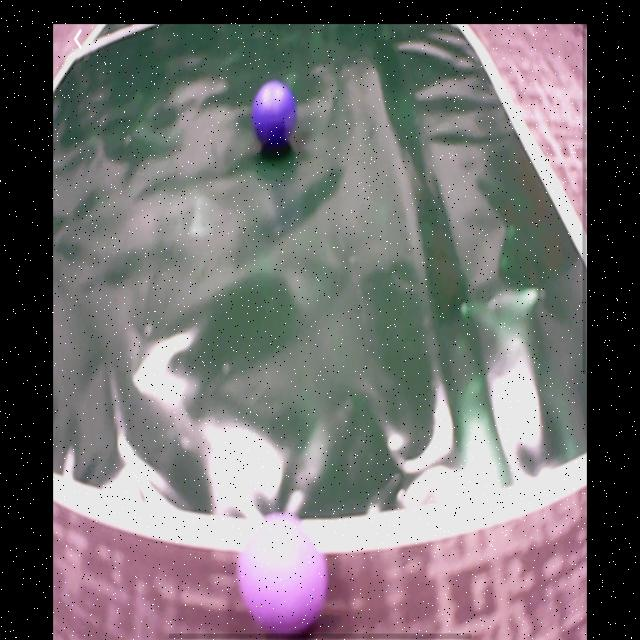ball: (239, 513, 331, 632), (252, 82, 297, 149)
